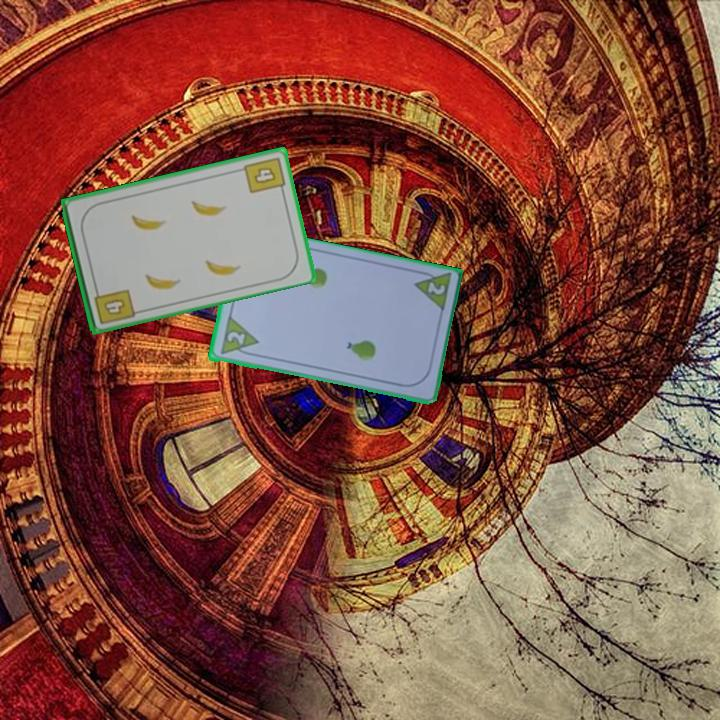2p: (409, 267, 454, 315), (223, 328, 248, 348)
4b: (90, 283, 137, 327), (240, 153, 288, 196)
